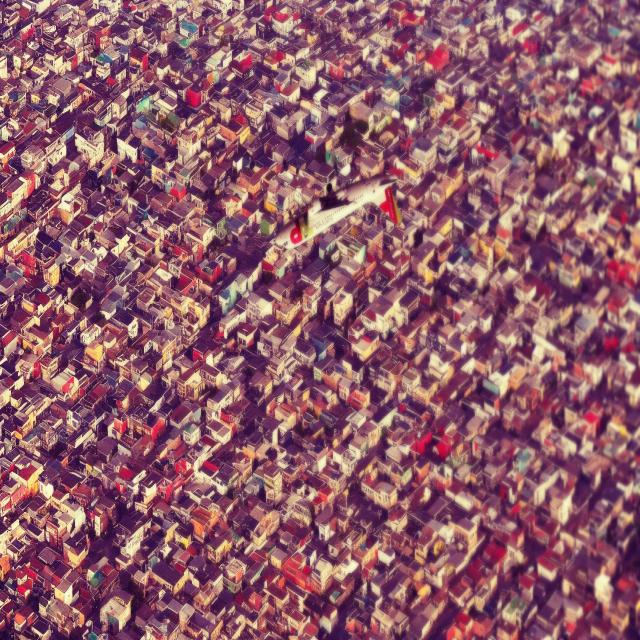airplane: (269, 174, 402, 254)
